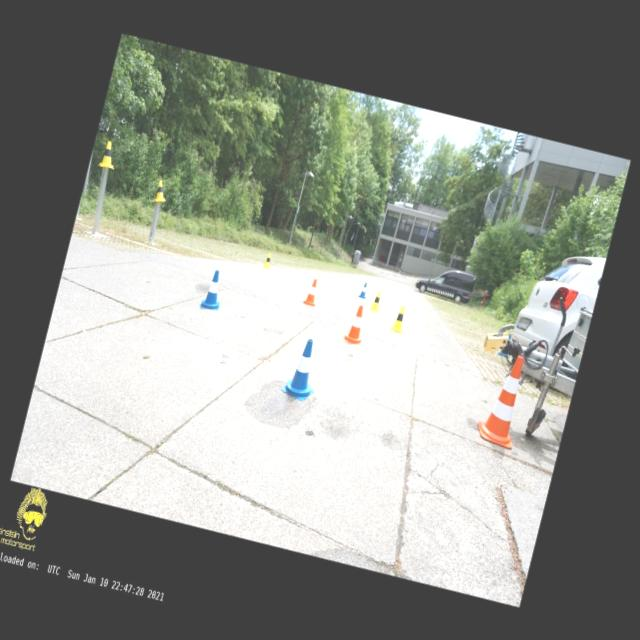blue_cone: (279, 334, 325, 402), (199, 268, 227, 312), (358, 281, 370, 299)
large_orange_cone: (473, 350, 534, 450)
orange_cone: (342, 302, 370, 346), (302, 276, 321, 306)
yellow_cone: (98, 140, 120, 168), (390, 303, 409, 333), (152, 179, 170, 204), (369, 289, 384, 312), (262, 251, 272, 269)
